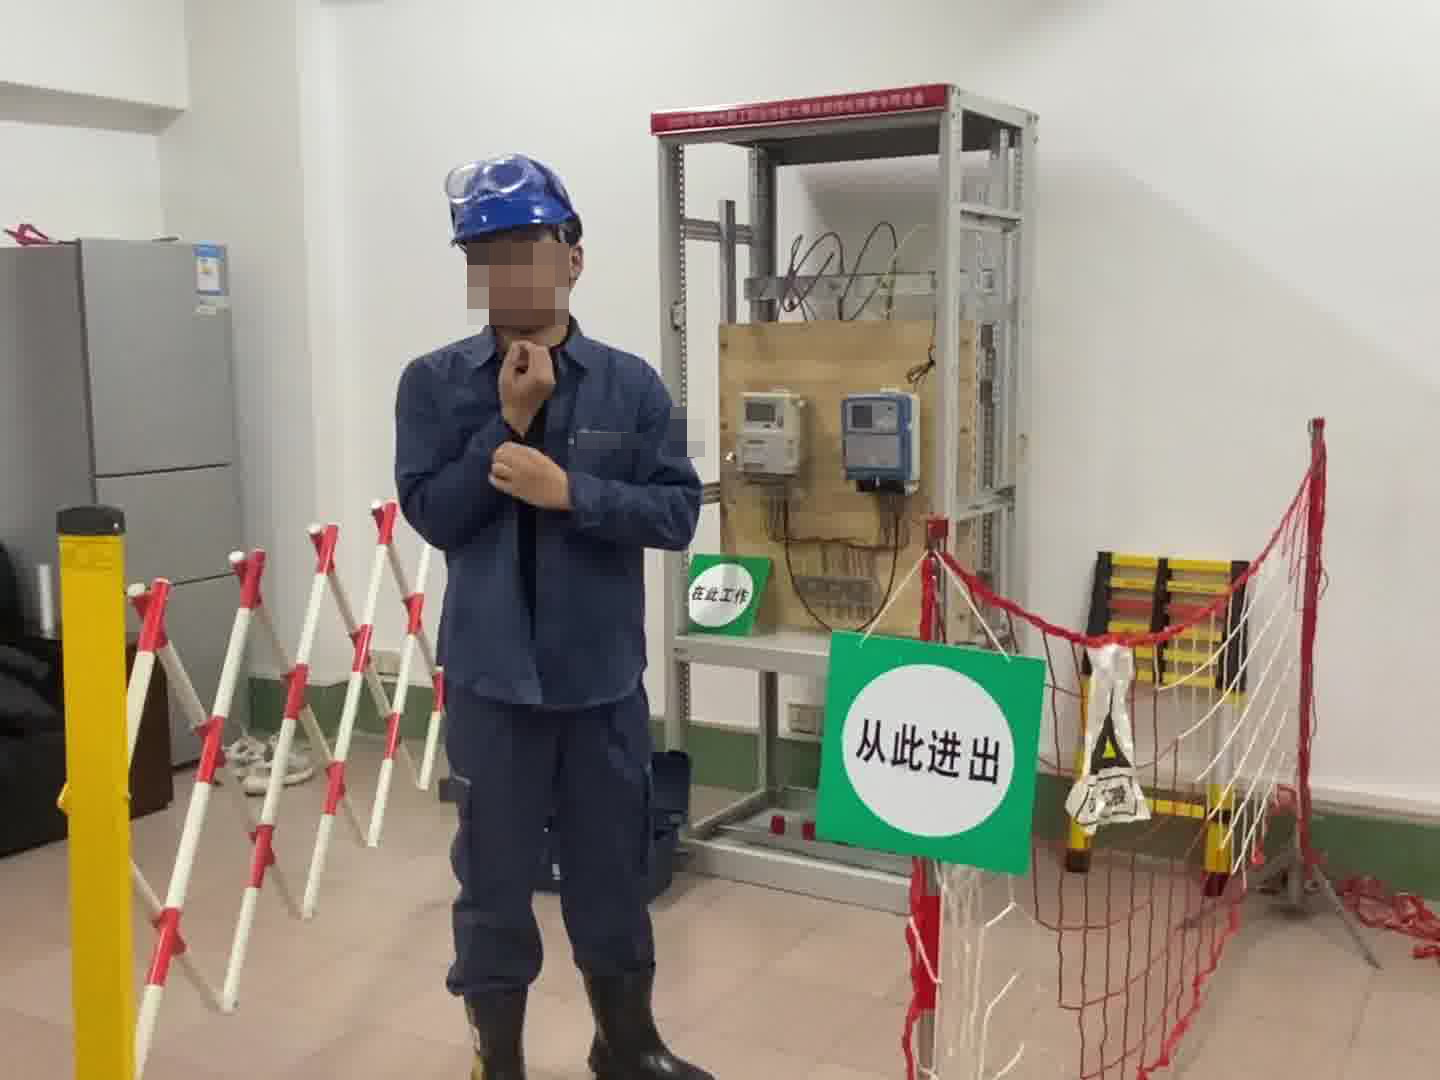downsuit: (435, 694, 673, 1006)
halt: (443, 148, 594, 341)
hand: (490, 446, 576, 521), (491, 350, 557, 432)
inear: (550, 234, 588, 290)
intosign: (812, 622, 1048, 879)
person: (386, 148, 714, 1080)
shoe: (460, 990, 704, 1080)
upsuit: (389, 321, 704, 714)
worksign: (679, 557, 767, 634)
wrongsuit: (501, 426, 563, 705)
